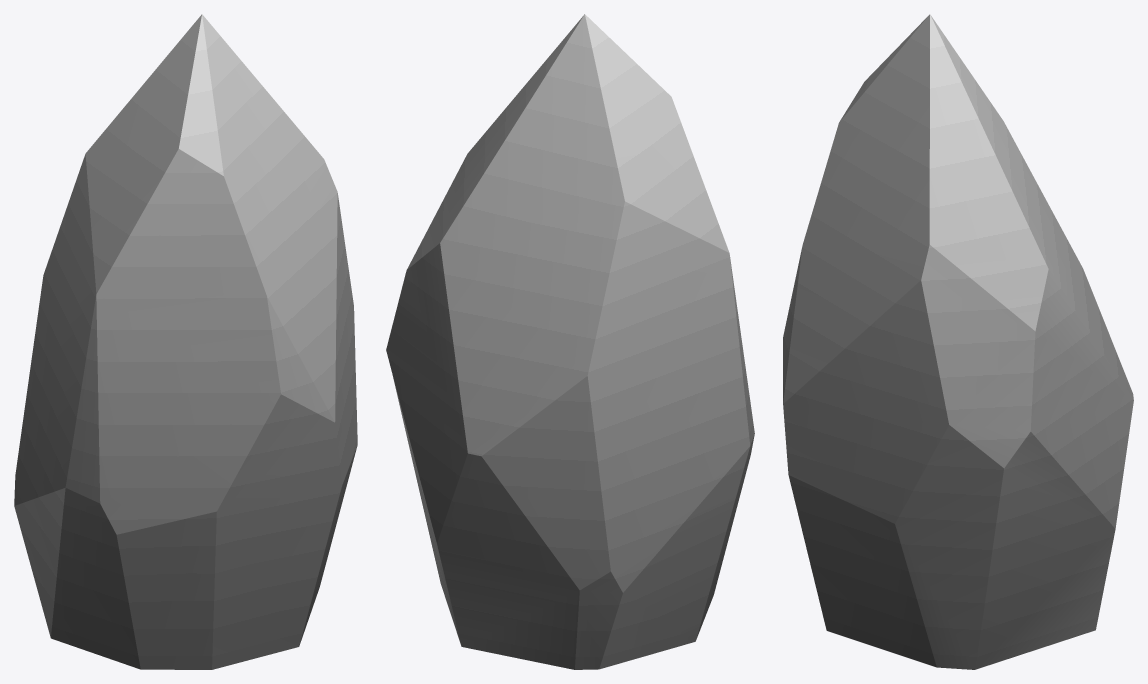
File: stone_5.glb
3 renders of one model, left to right at view 1: azimuth 30°, elevation 25°; view 2: azimuth 150°, elevation 25°; view 3: azimuth 270°, elevation 25°, orthographic. The views are drawn at different scales.
Visible parts, largest first — view 1: stone 5; view 2: stone 5; view 3: stone 5.
Part boxes in pixels (x1,y1,x2,y2): stone 5: [14, 14, 357, 669]; stone 5: [386, 14, 754, 669]; stone 5: [783, 14, 1133, 669].
Size of the model in its own units: 0.6542 by 1.2 by 0.6382.
Materials: 1 (1 with a texture image).
